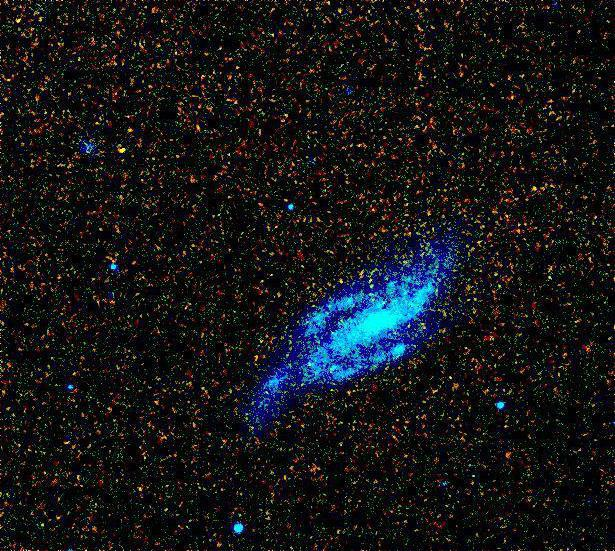star: (103, 136, 133, 166)
